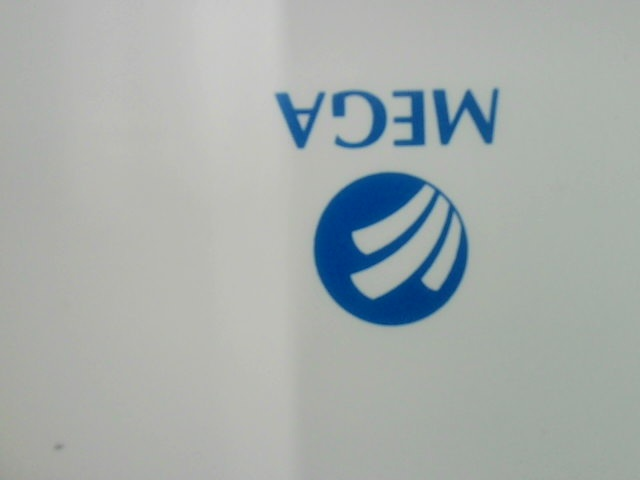AM_ZTEMEGA: (262, 70, 518, 334)
